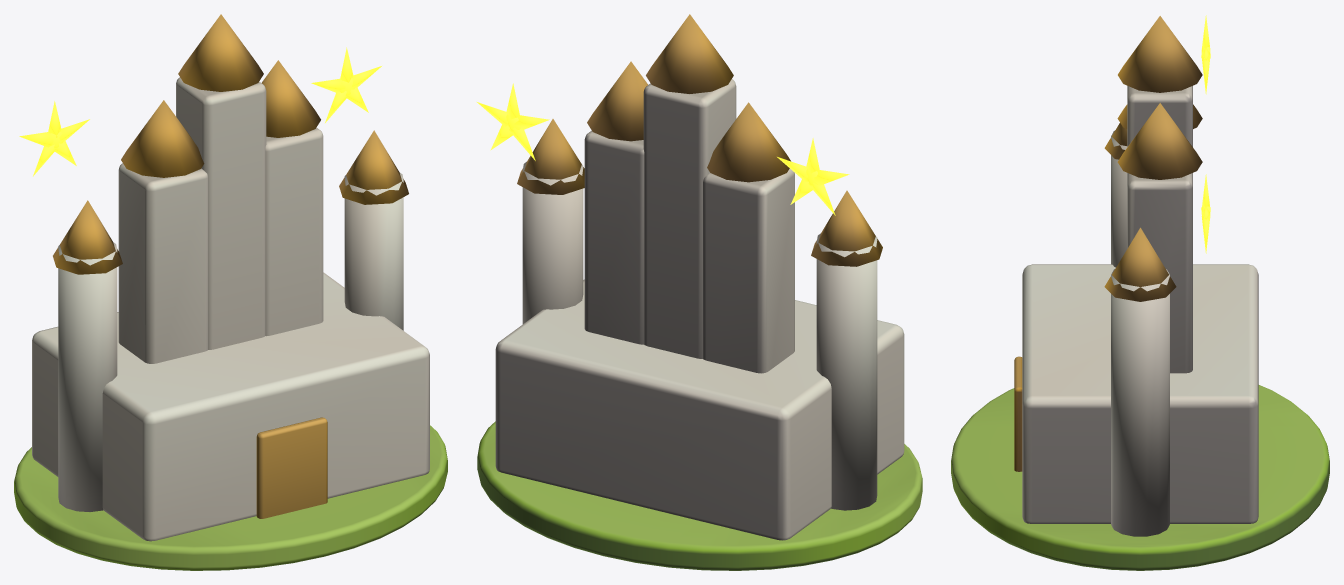
The model's file is jerusalem.glb.
The picture shows the model from 3 angles, left to right: view 1: azimuth 30°, elevation 25°; view 2: azimuth 150°, elevation 25°; view 3: azimuth 270°, elevation 25°; orthographic projection. The views are drawn at different scales.
Visible parts, largest first — view 1: jerusalem; view 2: jerusalem; view 3: jerusalem.
Boxes of the visible parts, x1=… form: jerusalem: x1=14, y1=14, x2=447, y2=570; jerusalem: x1=477, y1=14, x2=922, y2=570; jerusalem: x1=951, y1=15, x2=1329, y2=570.
Size of the model in its own units: 4.27 by 4.9 by 3.63.
